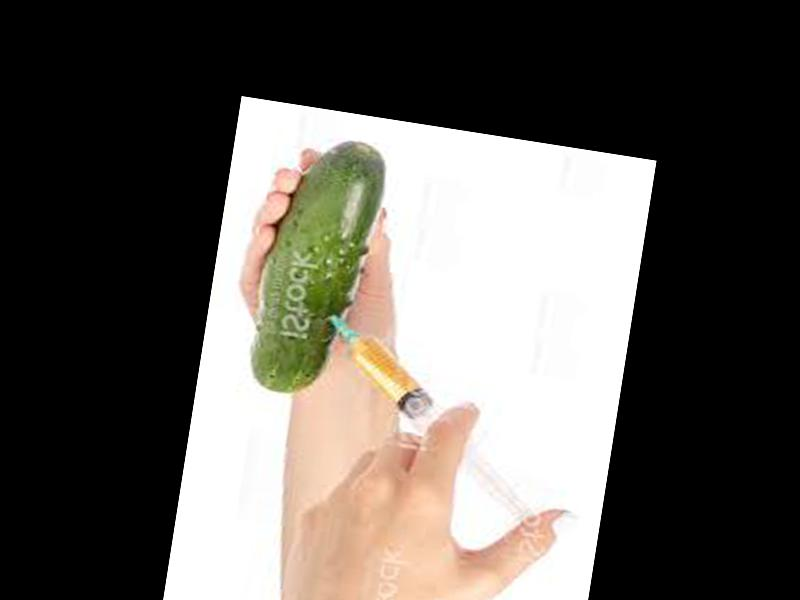Cucumber: (251, 129, 389, 402)
